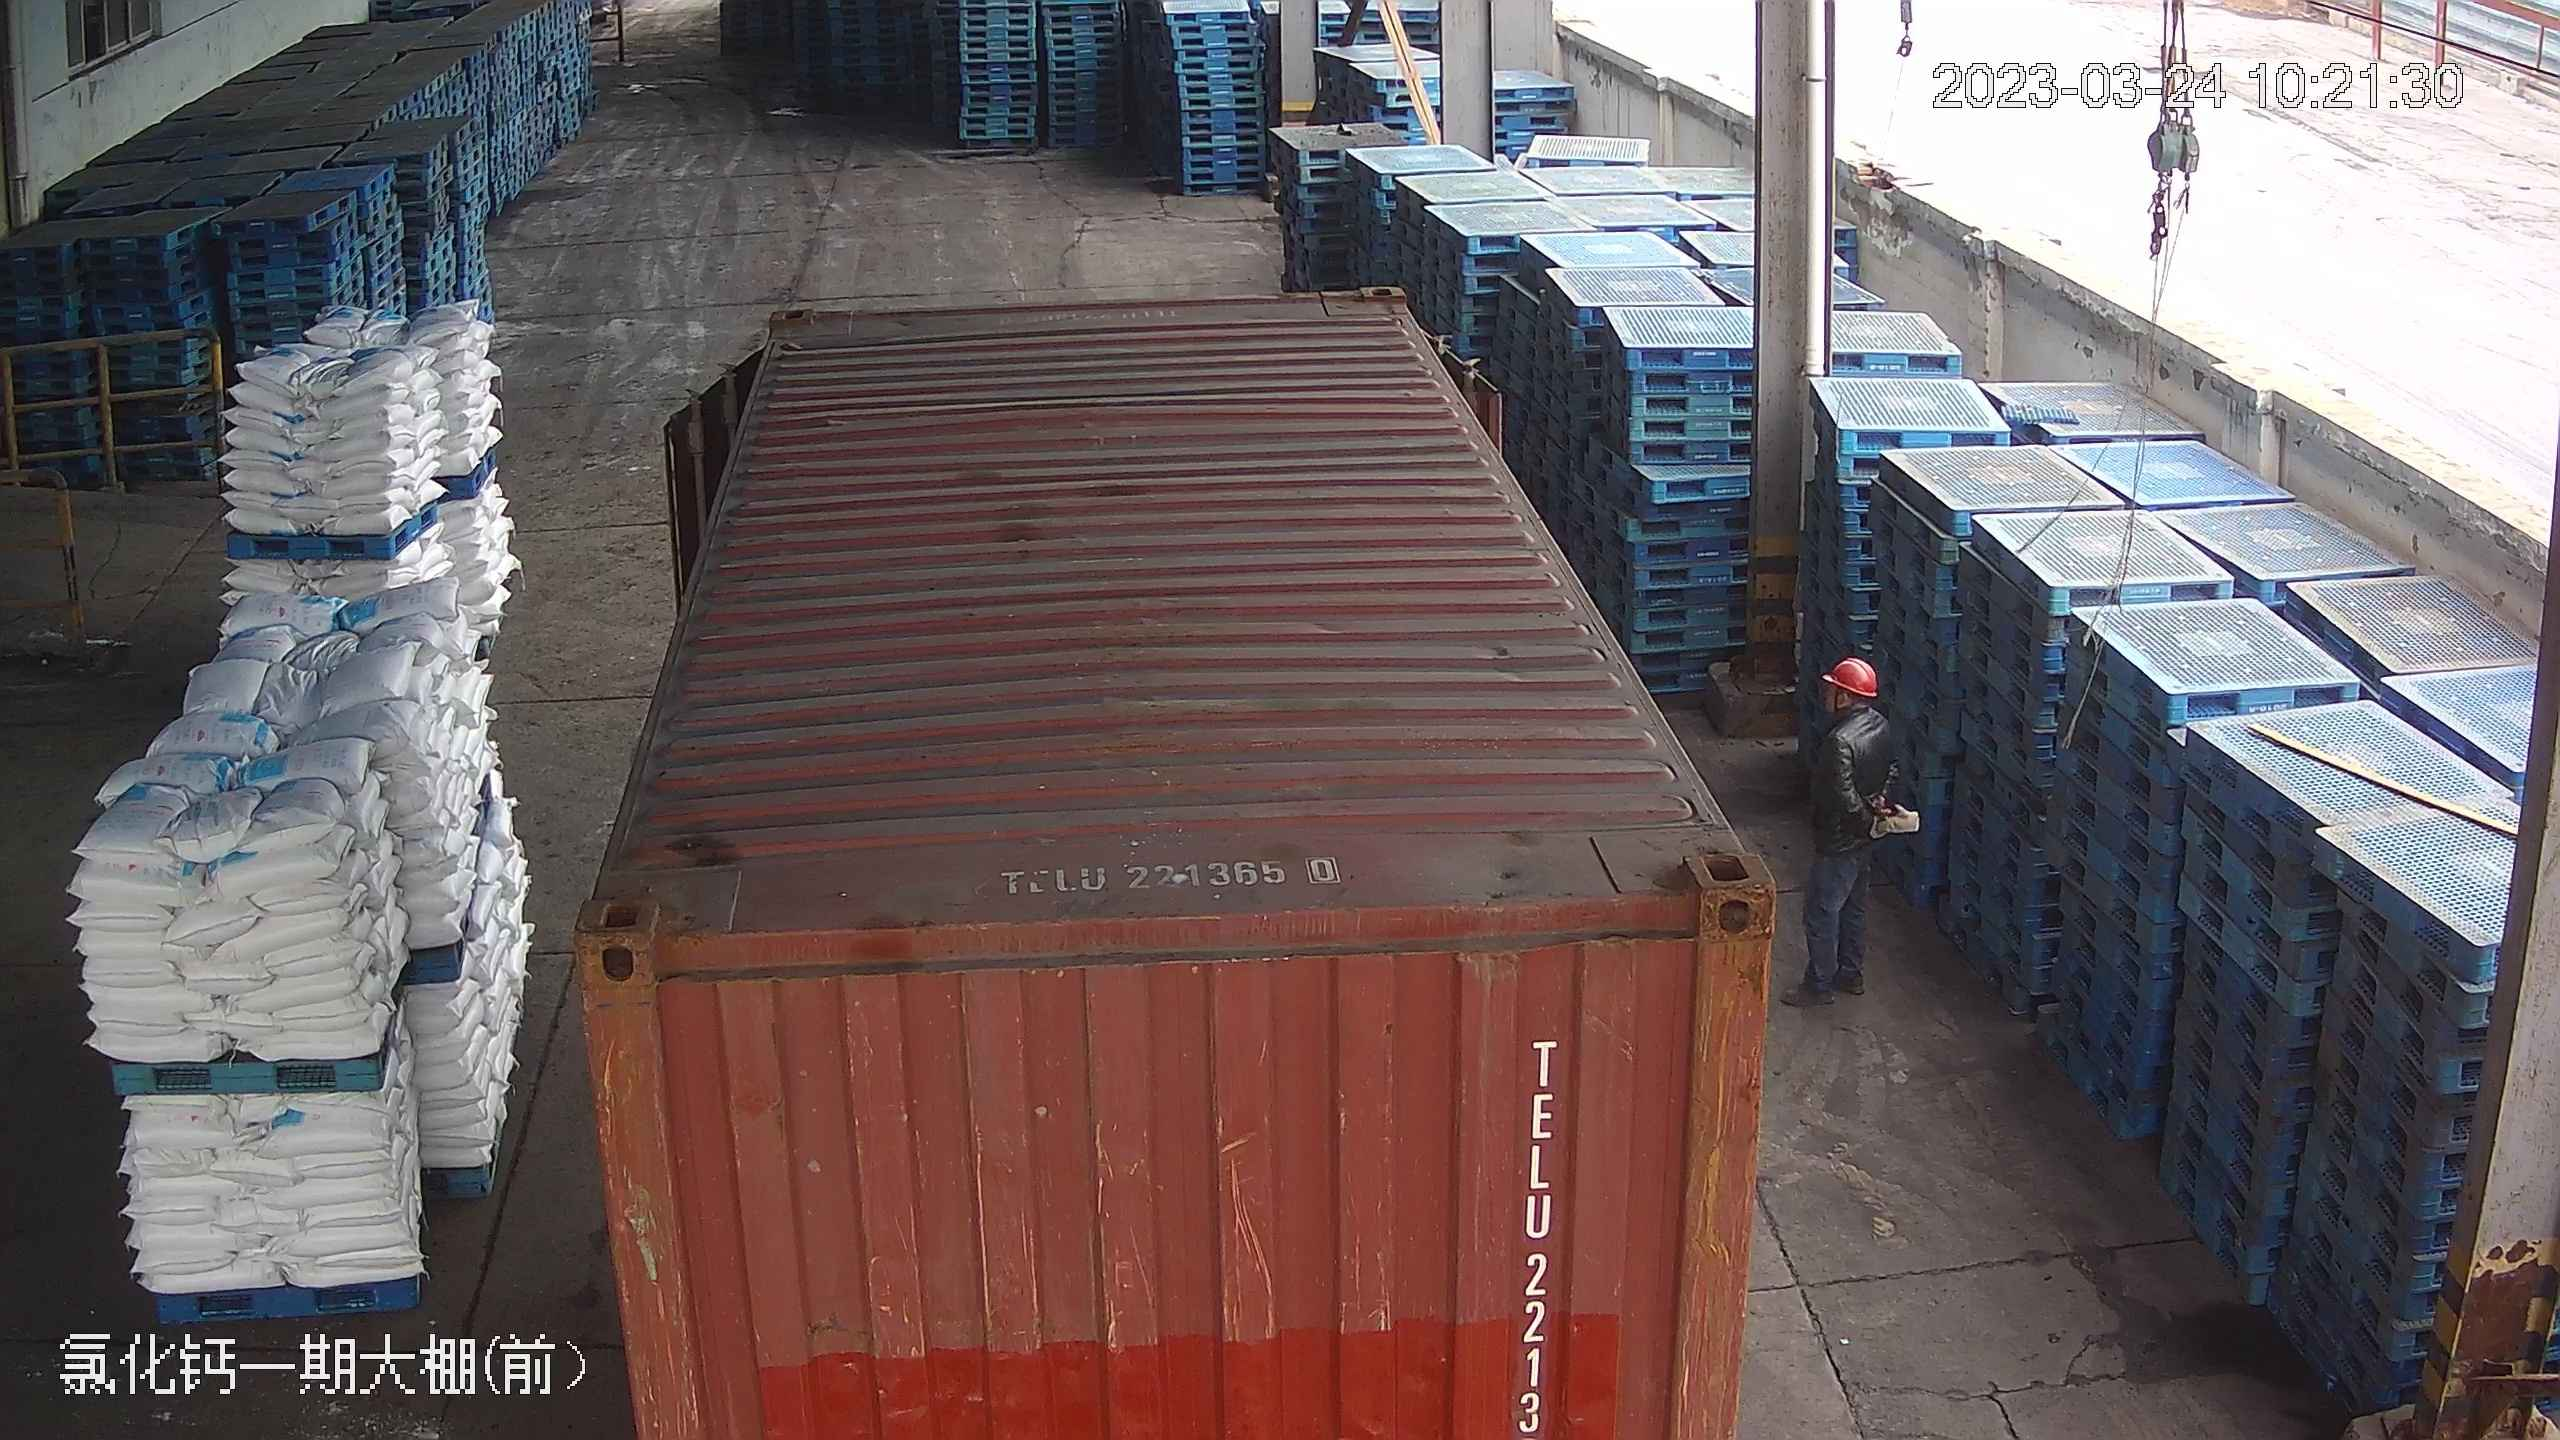head: (1806, 653, 1891, 768)
helmet: (1819, 653, 1879, 698)
people: (1790, 650, 1911, 1007)
truck: (515, 240, 1826, 1440)
